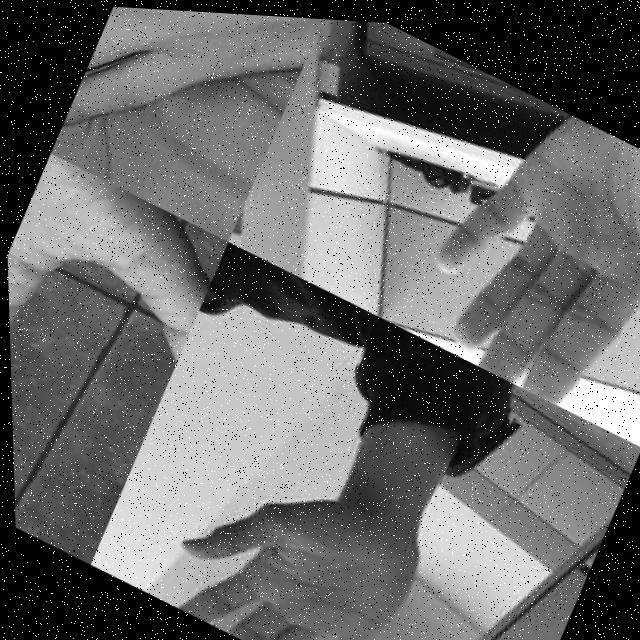no-gloves: (359, 53, 640, 440), (3, 149, 234, 550), (45, 2, 338, 242), (147, 435, 433, 640)
